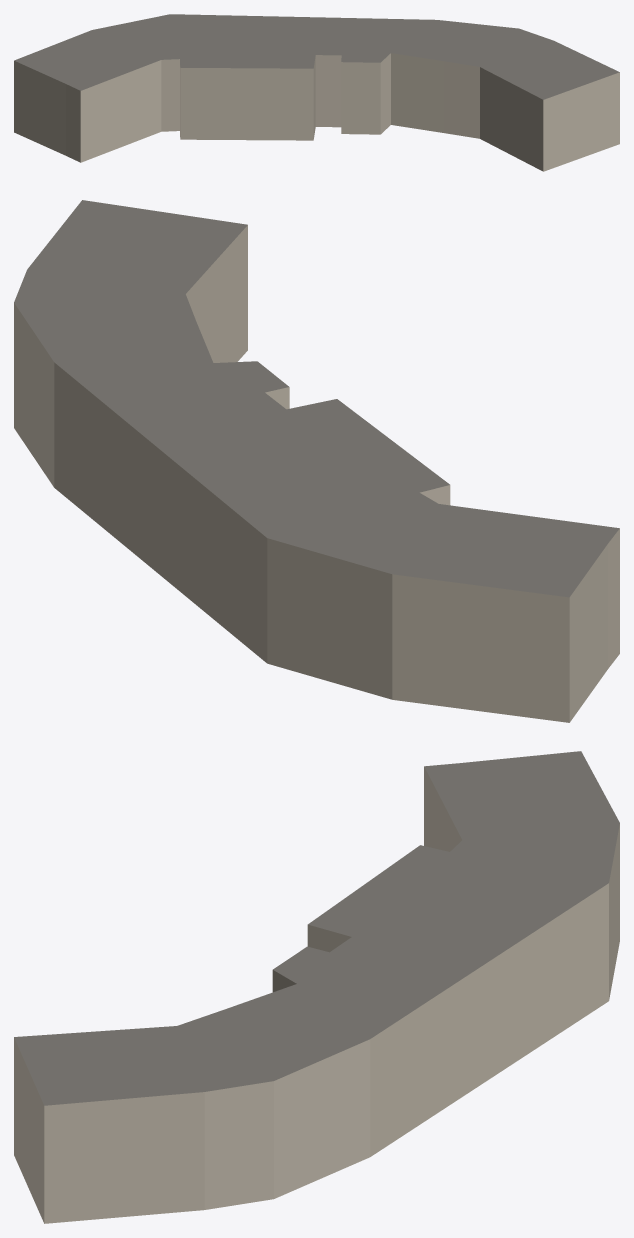
The picture shows the model from 3 angles, top to bottom: view 1: azimuth 30°, elevation 25°; view 2: azimuth 150°, elevation 25°; view 3: azimuth 270°, elevation 25°; orthographic projection. The views are drawn at different scales.
Parts seen in each view (by area): view 1: HP-w292719673; view 2: HP-w292719673; view 3: HP-w292719673.
Part boxes in pixels (x1,y1,x2,y2): HP-w292719673: (14,14,619,171); HP-w292719673: (14,200,619,722); HP-w292719673: (14,751,619,1223).
Bounding box in the file's own units: 77.3 × 12 × 55.81.
